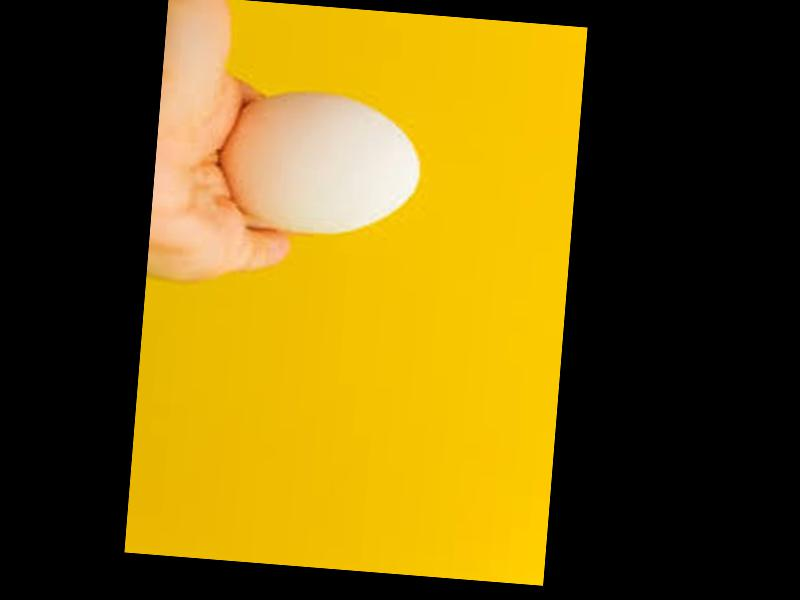Eggs: (216, 91, 426, 240)
